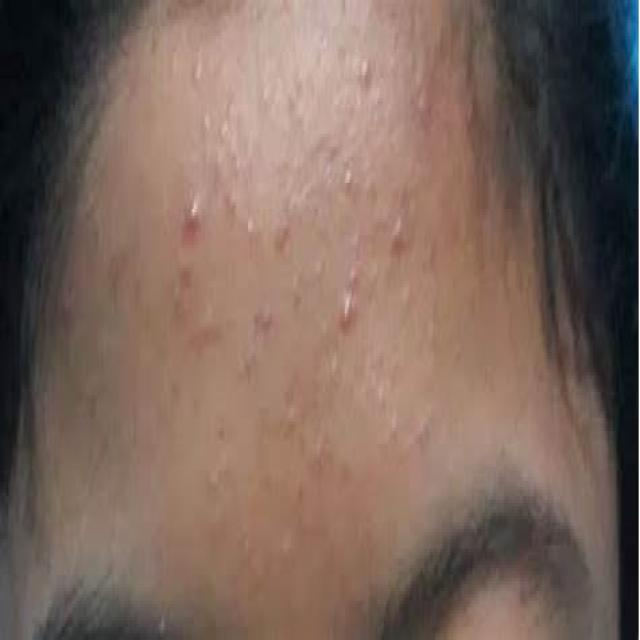fungal: (164, 33, 437, 532)
